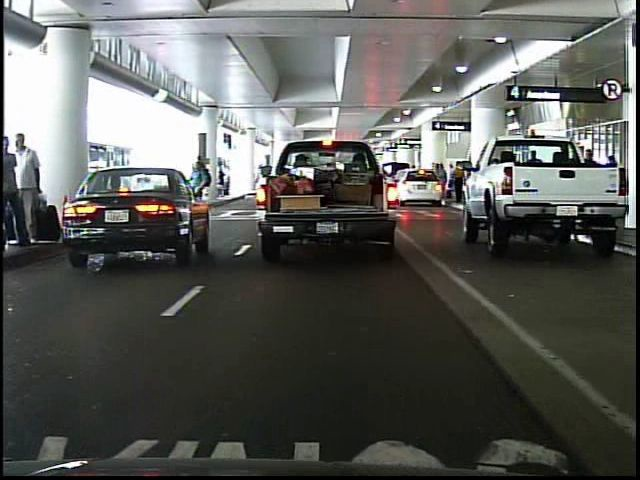person: (11, 131, 42, 250), (183, 152, 216, 224)
